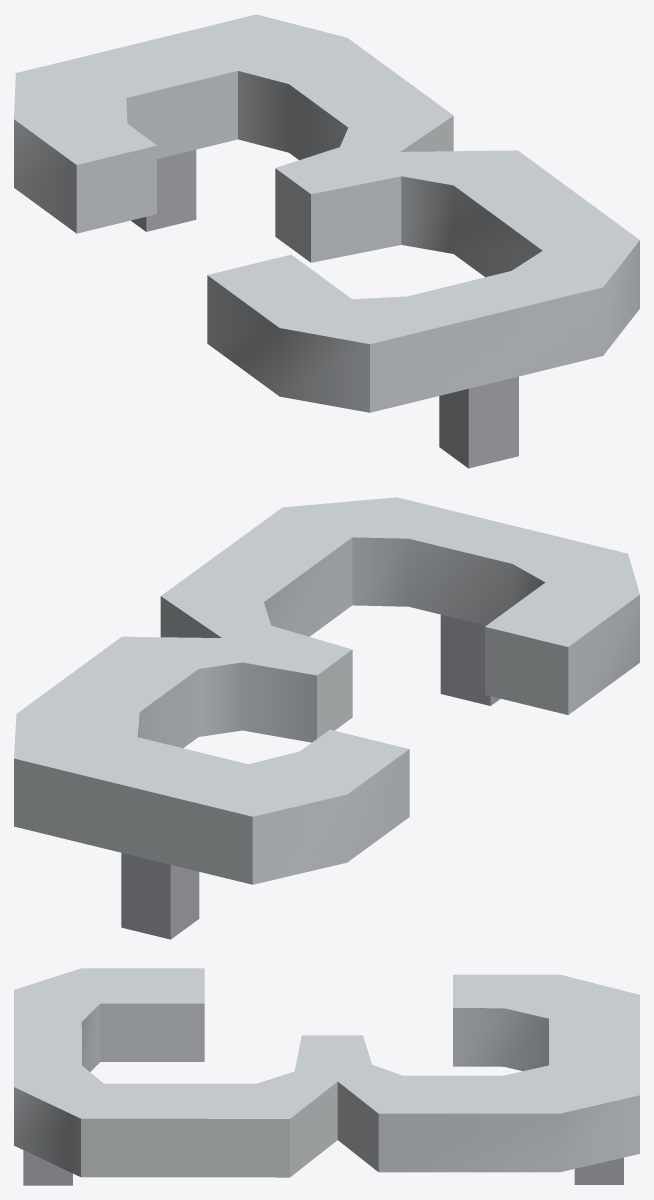
Rendered from 0465_Flower_Clock_3.glb.
The picture shows the model from 3 angles, top to bottom: view 1: azimuth 30°, elevation 25°; view 2: azimuth 150°, elevation 25°; view 3: azimuth 270°, elevation 25°; orthographic projection. The views are drawn at different scales.
Parts seen in each view (by area): view 1: part_0; view 2: part_0; view 3: part_0.
Part boxes in pixels (x1,y1,x2,y2): part_0: (14,14,639,468); part_0: (14,497,639,939); part_0: (14,968,639,1185).
Size of the model in its own units: 0.4402 by 0.1792 by 0.7743.
1 material, 1 textured.
